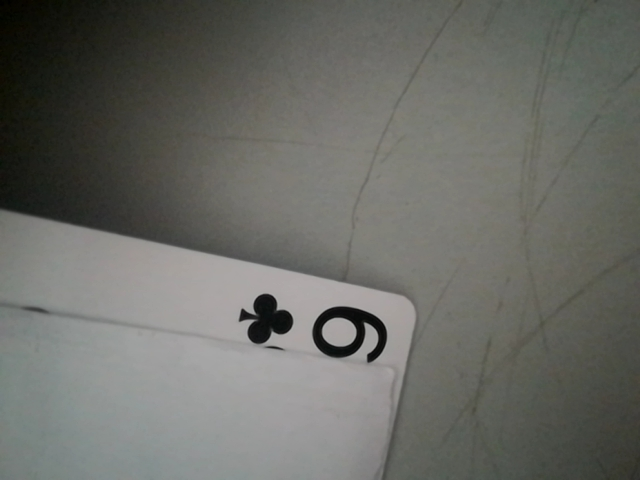mh 6: (223, 286, 401, 371)
